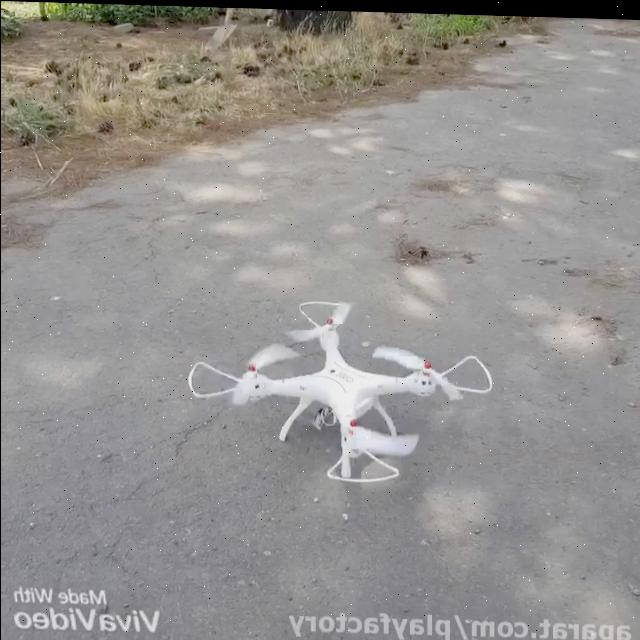drone: (184, 290, 496, 484)
